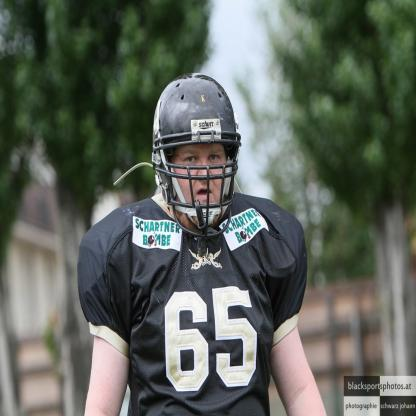Helmet: (114, 71, 242, 256)
